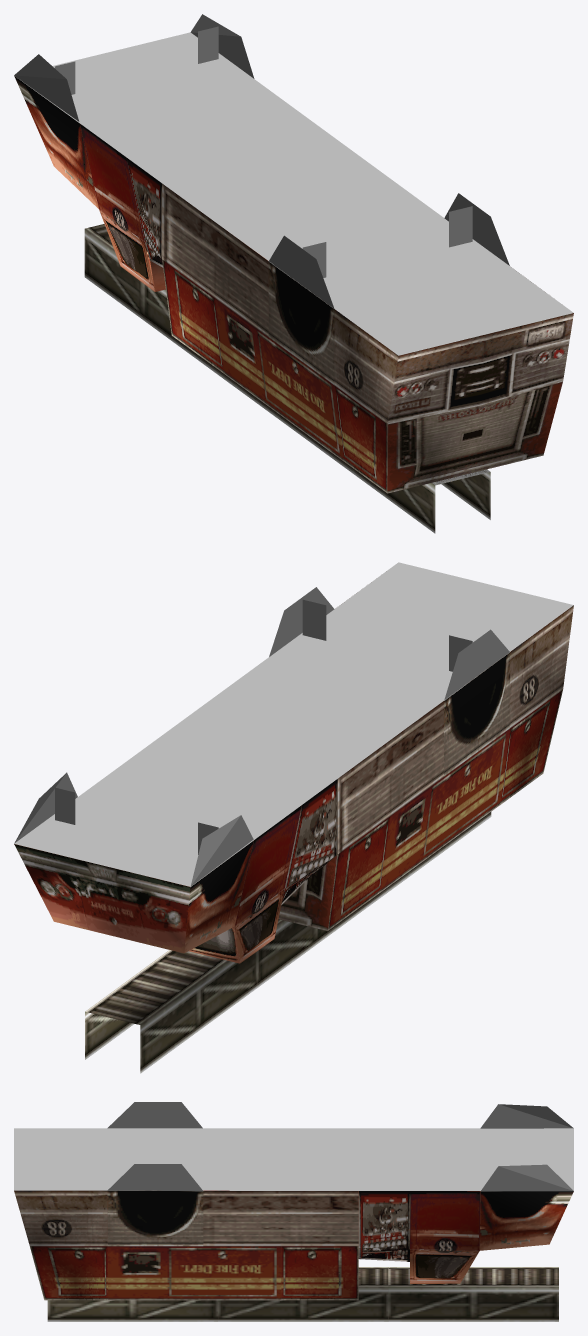
File: RIO_model10_low.obj
3 views of the same model, one above another, from view 1: azimuth 30°, elevation 25°; view 2: azimuth 150°, elevation 25°; view 3: azimuth 270°, elevation 25° (orthographic). The views are drawn at different scales.
Visible parts, largest first — view 1: RIO_model10_low; view 2: RIO_model10_low; view 3: RIO_model10_low.
Part boxes in pixels (bbox=[...]): RIO_model10_low: bbox=[14, 14, 573, 533]; RIO_model10_low: bbox=[14, 562, 573, 1073]; RIO_model10_low: bbox=[14, 1102, 573, 1321].
Size of the model in its own units: 328 by 436 by 1236.
